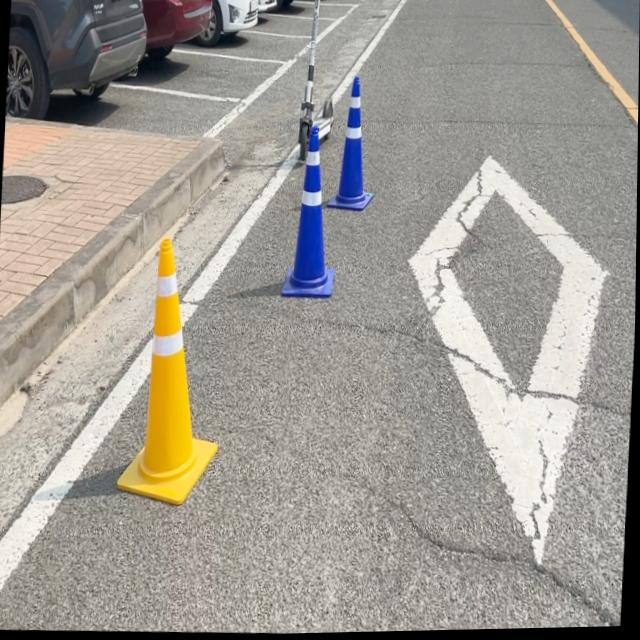b_rub: (283, 125, 335, 298), (328, 76, 374, 211)
y_rub: (118, 238, 218, 505)
